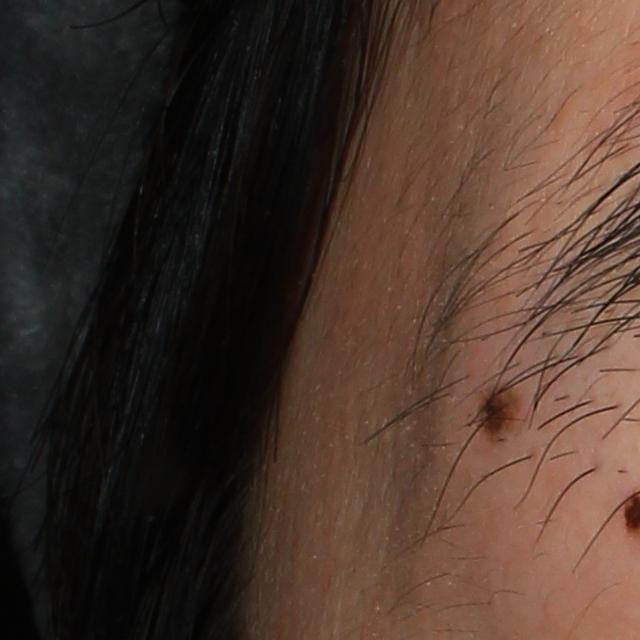nevus: (468, 381, 529, 445)
